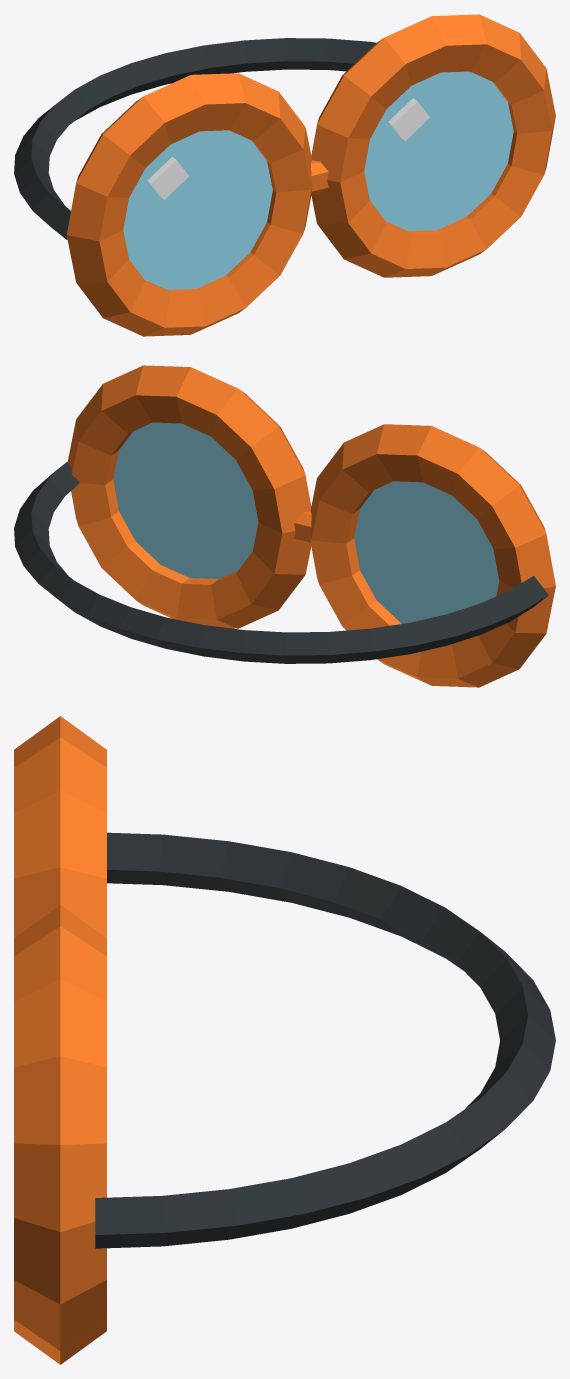
File: taucherbrille.glb
3 renders of one model, top to bottom at view 1: azimuth 30°, elevation 25°; view 2: azimuth 150°, elevation 25°; view 3: azimuth 270°, elevation 25°, orthographic. The views are drawn at different scales.
Visible parts, largest first — view 1: brille-m; view 2: brille-m; view 3: brille-m.
Boxes of the visible parts, x1=… form: brille-m: x1=14, y1=14, x2=555, y2=336; brille-m: x1=14, y1=365, x2=555, y2=687; brille-m: x1=14, y1=716, x2=555, y2=1364.
Bounding box in the file's own units: 1.32 × 0.66 × 0.7766.
